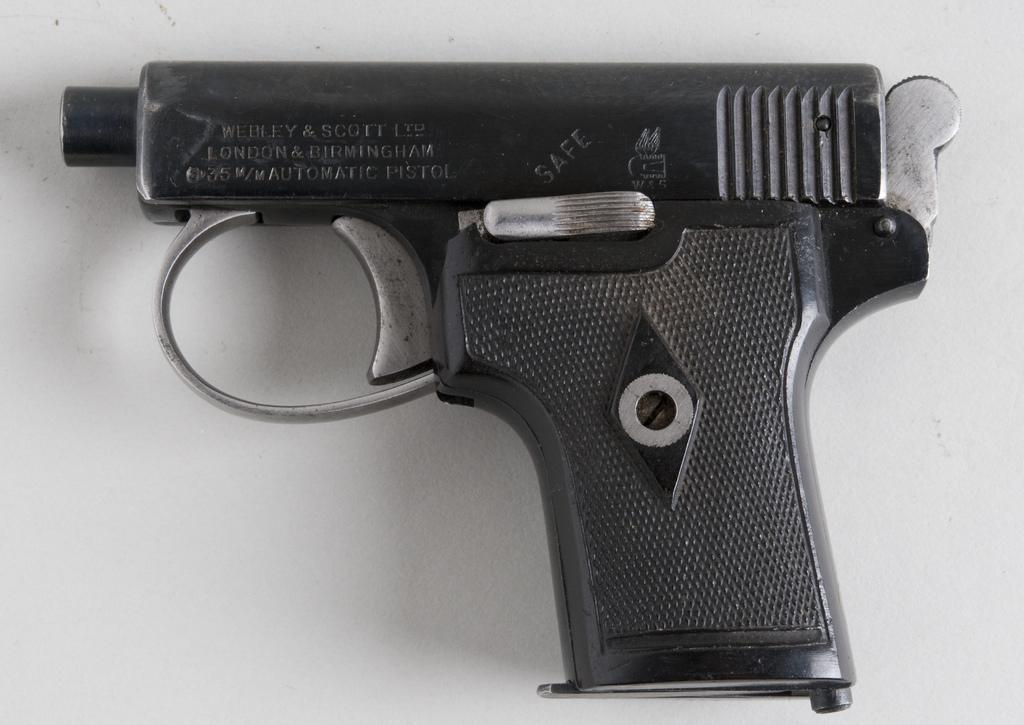Handgun: (60, 61, 961, 712)
